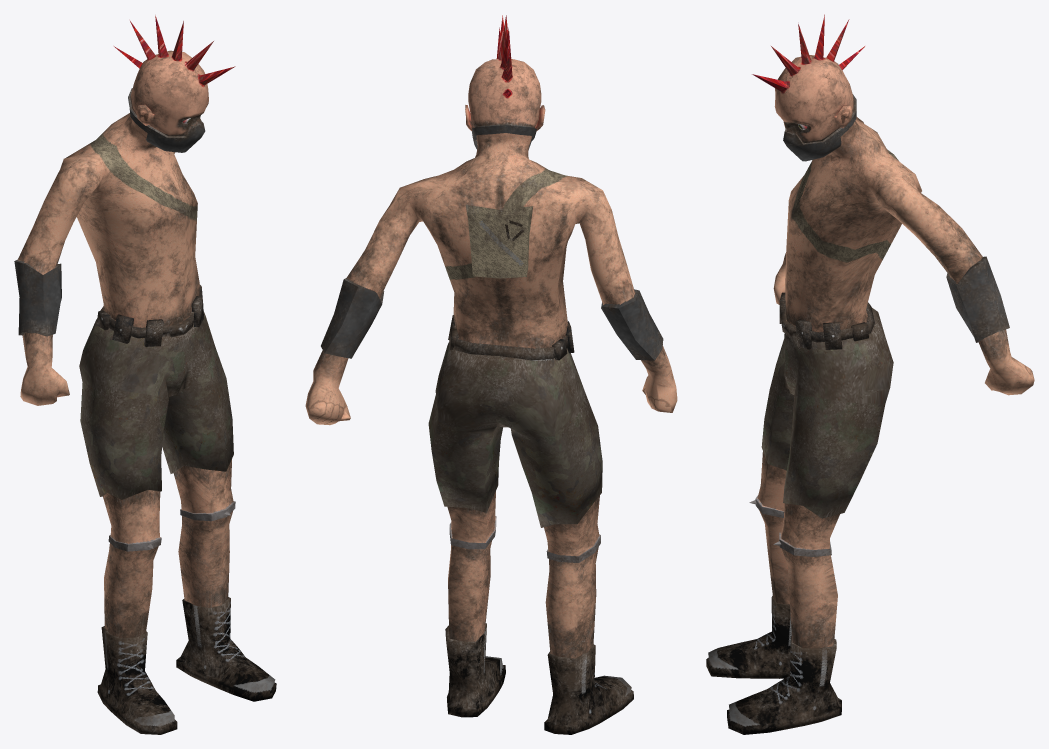
The model's file is Anim_recibirdanyo_1_npc2.0029.obj.
3 views of the same model, side by side, from view 1: azimuth 30°, elevation 25°; view 2: azimuth 150°, elevation 25°; view 3: azimuth 270°, elevation 25° (orthographic). The views are drawn at different scales.
Parts seen in each view (by area): view 1: polySurface1; view 2: polySurface1; view 3: polySurface1.
Boxes of the visible parts, bbox=[...] form: polySurface1: bbox=[14, 15, 276, 734]; polySurface1: bbox=[305, 15, 677, 734]; polySurface1: bbox=[706, 14, 1034, 734].
Bounding box in the file's own units: 3.83 × 9.96 × 4.35.
